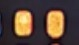MISSING: (9, 4, 37, 42), (42, 4, 70, 42)
